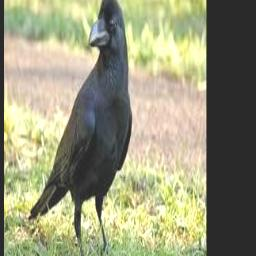Crow: (29, 0, 132, 256)
